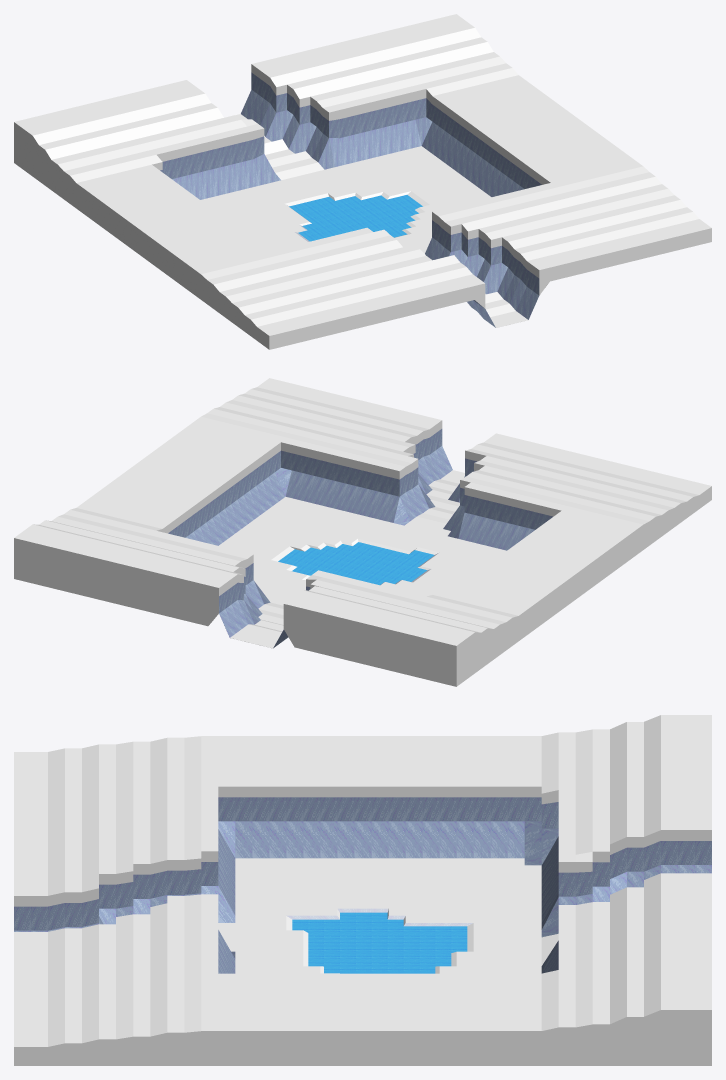
File: stage_maid.fbx
The picture shows the model from 3 angles, top to bottom: view 1: azimuth 30°, elevation 25°; view 2: azimuth 150°, elevation 25°; view 3: azimuth 270°, elevation 25°; orthographic projection. The views are drawn at different scales.
Parts seen in each view (by area): view 1: ground; view 2: ground; view 3: ground.
Boxes of the visible parts, x1=… form: ground: x1=14, y1=14, x2=711, y2=349; ground: x1=14, y1=378, x2=711, y2=686; ground: x1=14, y1=715, x2=711, y2=1065.
Bounding box in the file's own units: 8000 × 1285 × 8000.
